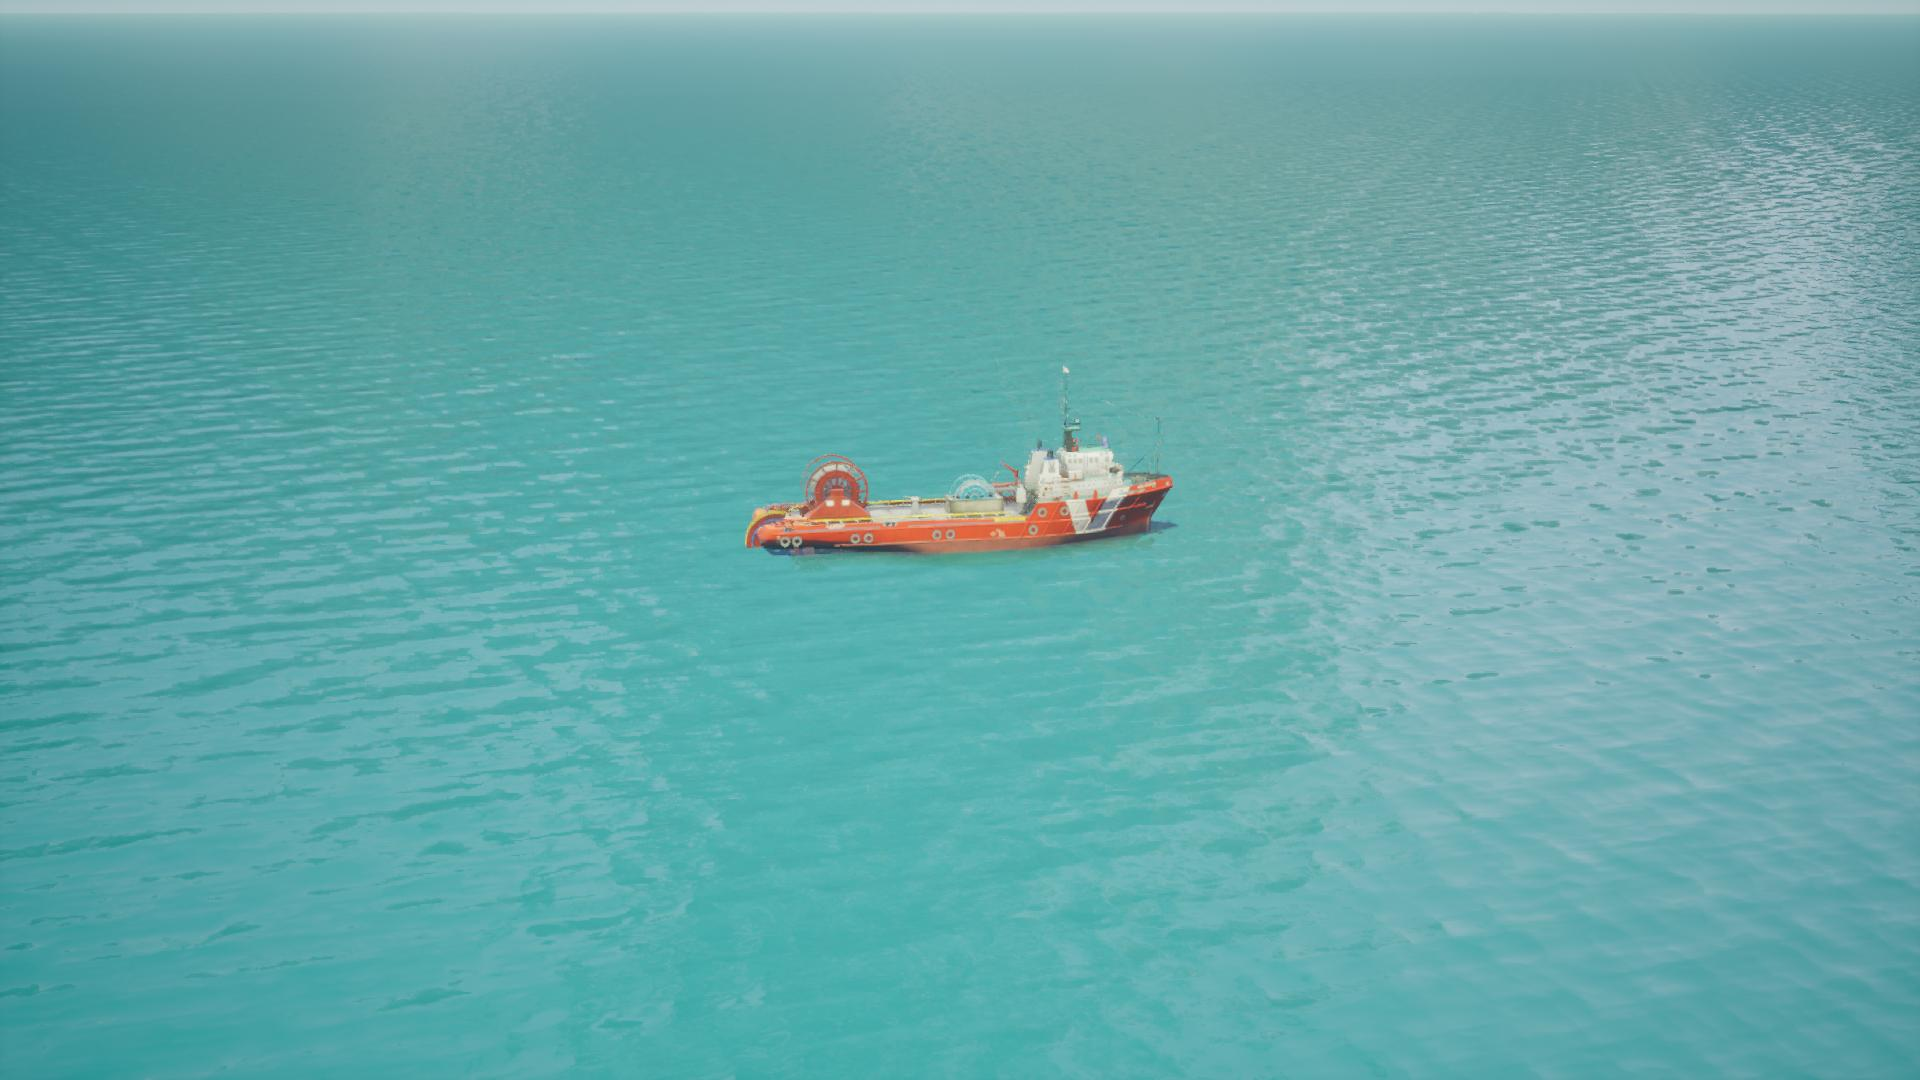Tug Boat: (749, 369, 1179, 566)
